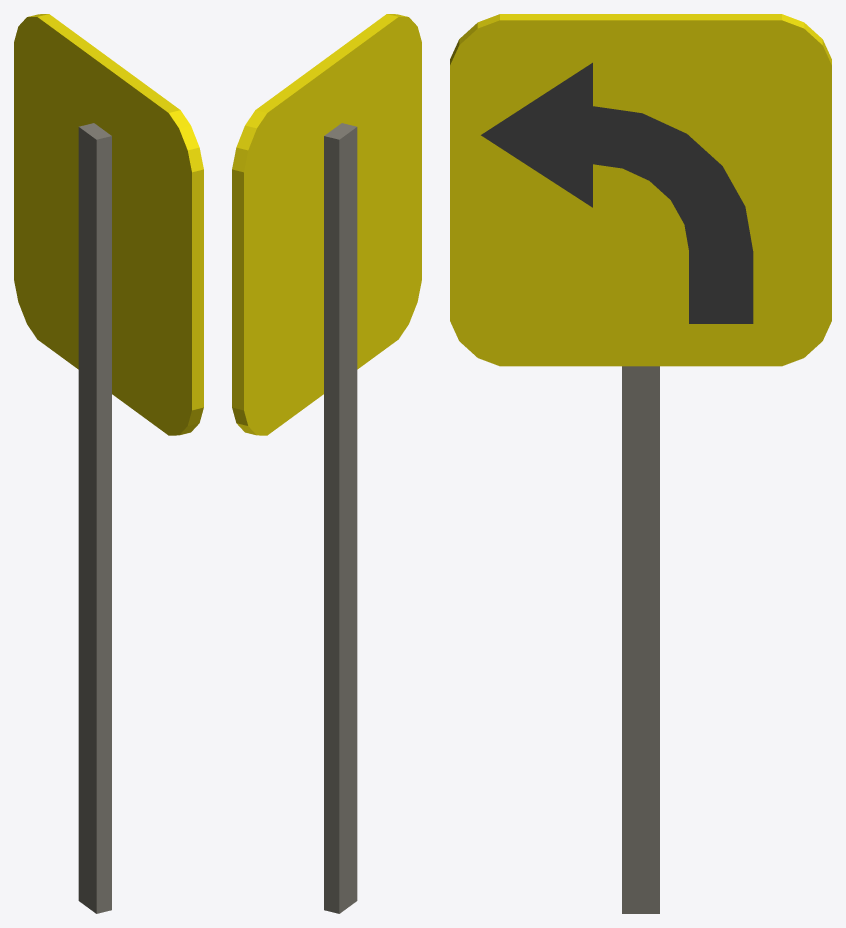
File: Prop_Track_Sign_Upcoming_Curve_90.obj
3 renders of one model, left to right at view 1: azimuth 30°, elevation 25°; view 2: azimuth 150°, elevation 25°; view 3: azimuth 270°, elevation 25°, orthographic. The views are drawn at different scales.
Visible parts, largest first — view 1: Sign_Yellow, Sign_Post; view 2: Sign_Yellow, Sign_Post; view 3: Sign_Yellow, Sign_Black_Paint, Sign_Post.
Boxes of the visible parts, left/top/right/bottom form: Sign_Yellow: left=14, top=14, right=203, bottom=435; Sign_Post: left=78, top=123, right=111, bottom=913; Sign_Yellow: left=232, top=14, right=421, bottom=435; Sign_Post: left=324, top=123, right=357, bottom=913; Sign_Yellow: left=450, top=14, right=831, bottom=366; Sign_Black_Paint: left=481, top=62, right=753, bottom=323; Sign_Post: left=622, top=366, right=659, bottom=913.
Size of the model in its own units: 0.0458 by 1.34 by 0.5161.
